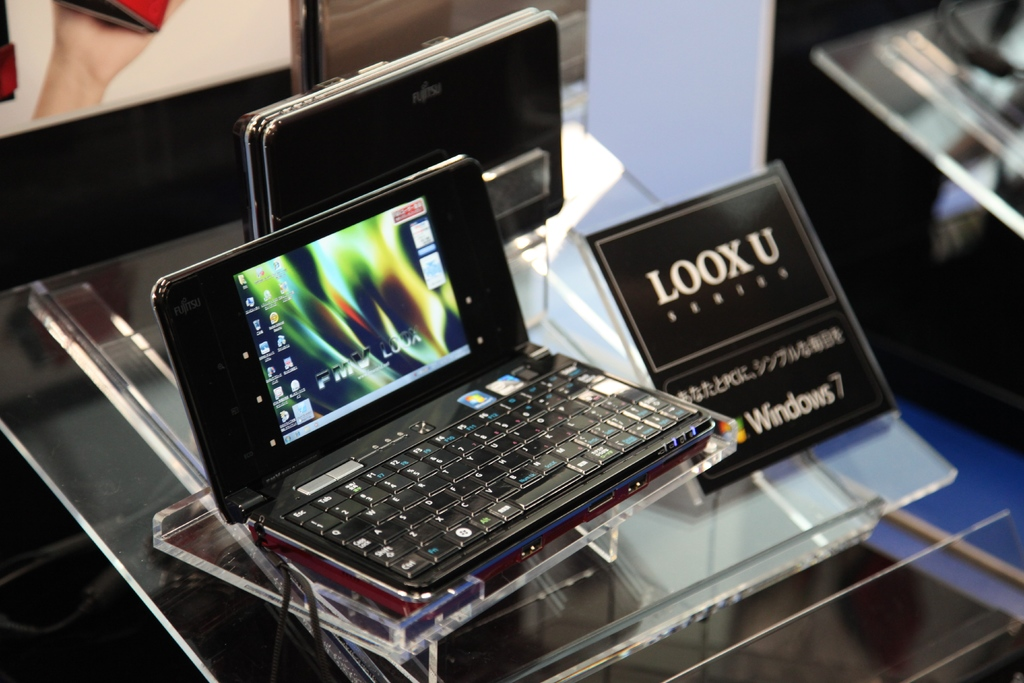mobile phone: (180, 178, 728, 625)
